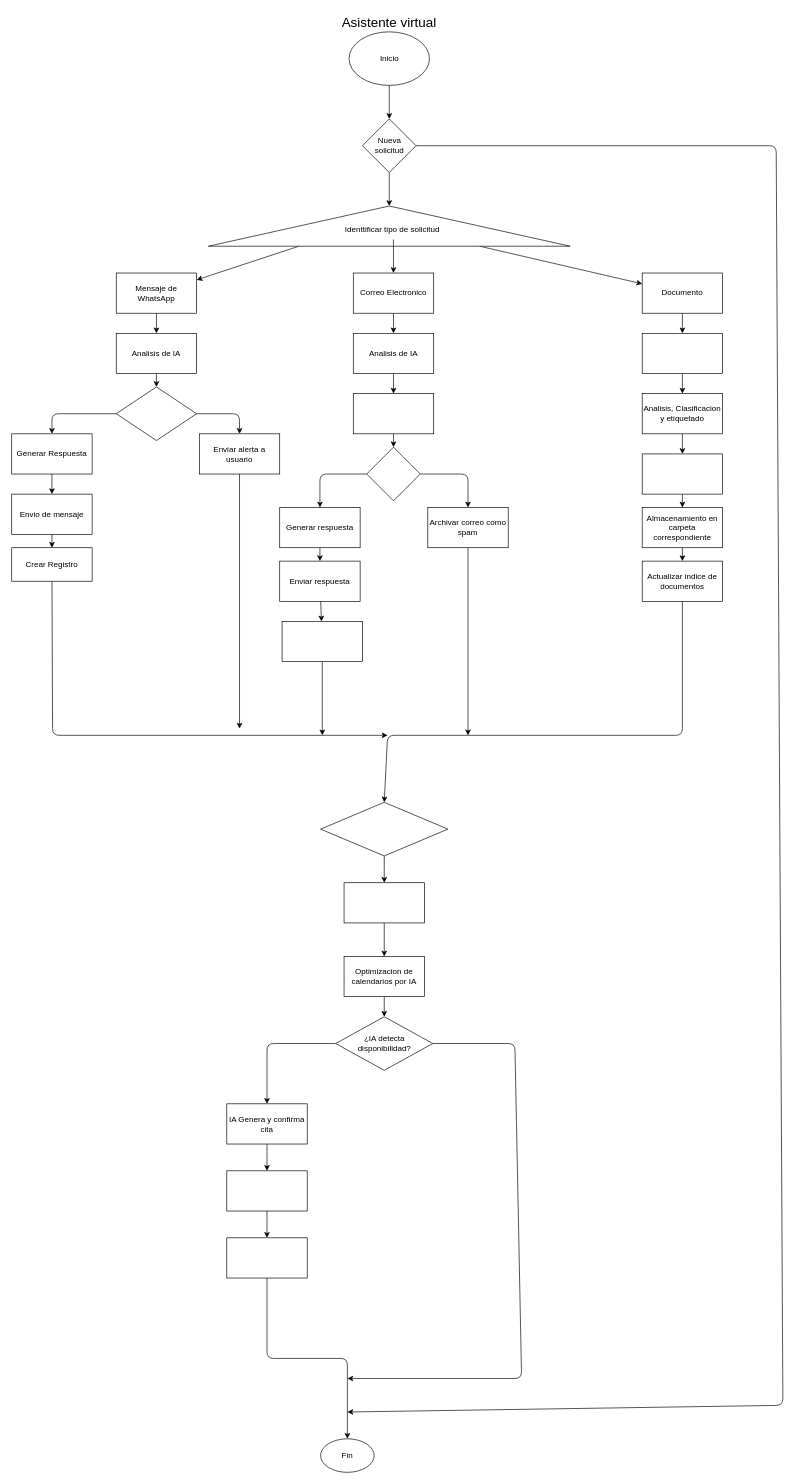
This 800x1484 diagram has some shape labels left out. The centre of each missing label's shape, as x and y in pixels:
"Agendar llamada y enviar confirmacion" belongs at (x=266, y=1190).
"Analisis IA de participantes y contexto" belongs at (x=384, y=829).
"Archivar y etiquetar" belongs at (x=321, y=641).
"Clasificacion de urgencia y prioridad" belongs at (x=393, y=413).
"Evaluacion de solicitud de llamada" belongs at (x=383, y=902).
"Extraccion de datos" belongs at (x=682, y=473).
"Nuevo documento reccibido" belongs at (x=682, y=353).
"Registrar" belongs at (x=266, y=1257).
"Respuesta automatizada" belongs at (x=156, y=413).
"Soliciud especifica" belongs at (x=393, y=474).
